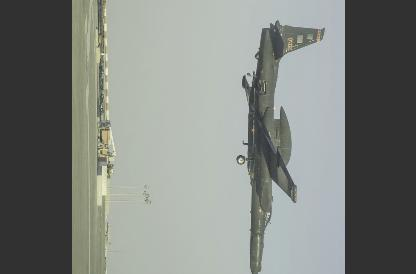Tu160: (235, 21, 325, 273)
